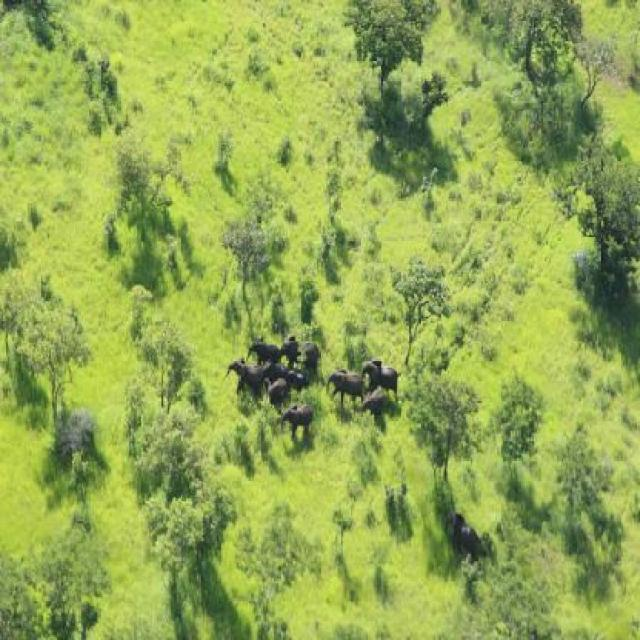elephant: (440, 505, 483, 567), (224, 351, 264, 395), (355, 360, 407, 389), (325, 363, 360, 402), (277, 337, 318, 368), (360, 390, 391, 427), (283, 398, 314, 434), (247, 325, 276, 361), (264, 375, 290, 399), (261, 358, 285, 378), (290, 368, 308, 394)
